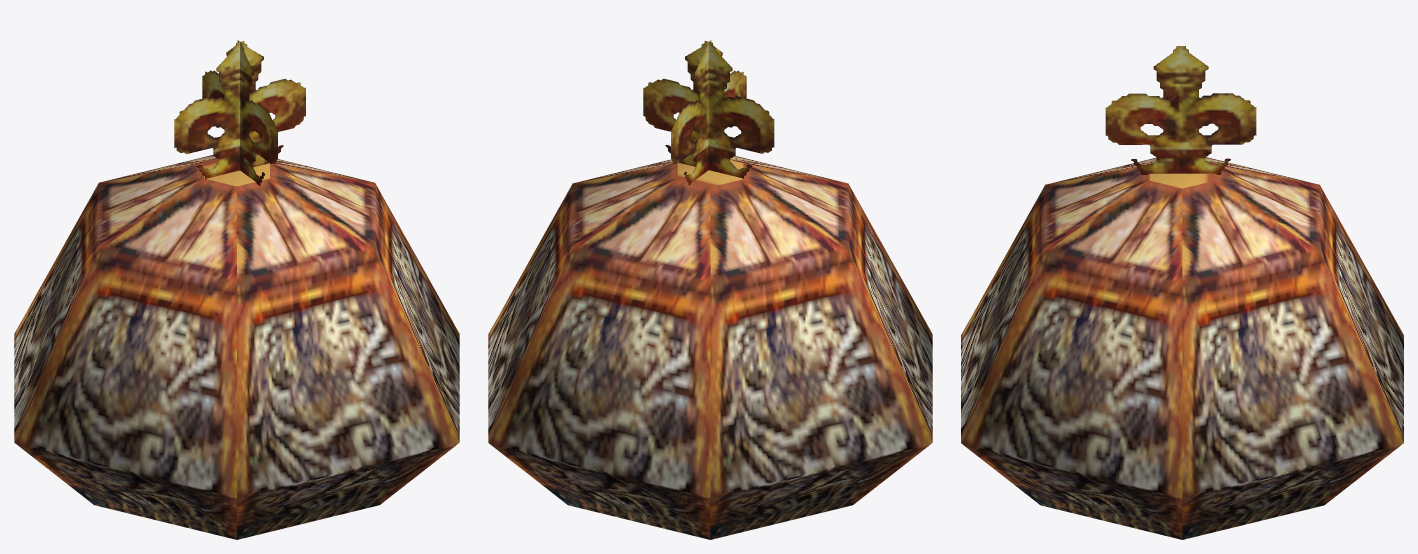
File: drop_reinforce_prob_up.glb
The picture shows the model from 3 angles, left to right: view 1: azimuth 30°, elevation 25°; view 2: azimuth 150°, elevation 25°; view 3: azimuth 270°, elevation 25°; orthographic projection.
Parts seen in each view (by area): view 1: drop_rein0; view 2: drop_rein0; view 3: drop_rein0.
Part boxes in pixels (<box>): drop_rein0: <box>14,40,459,539</box>; drop_rein0: <box>488,40,932,539</box>; drop_rein0: <box>961,46,1403,539</box>.
Size of the model in its own units: 0.2321 by 0.2134 by 0.2011.
1 material, 1 textured.
